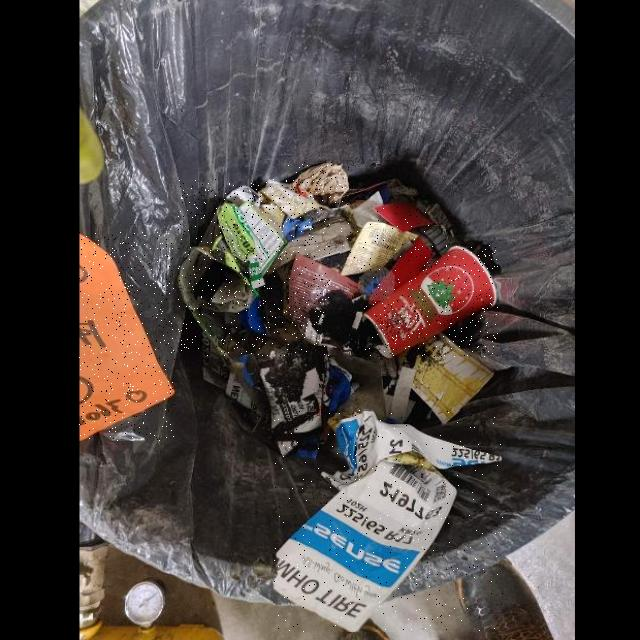paper: (274, 410, 503, 631), (178, 179, 330, 356), (80, 232, 175, 440), (364, 245, 498, 356), (341, 220, 419, 275), (288, 162, 349, 208), (373, 202, 434, 232)
